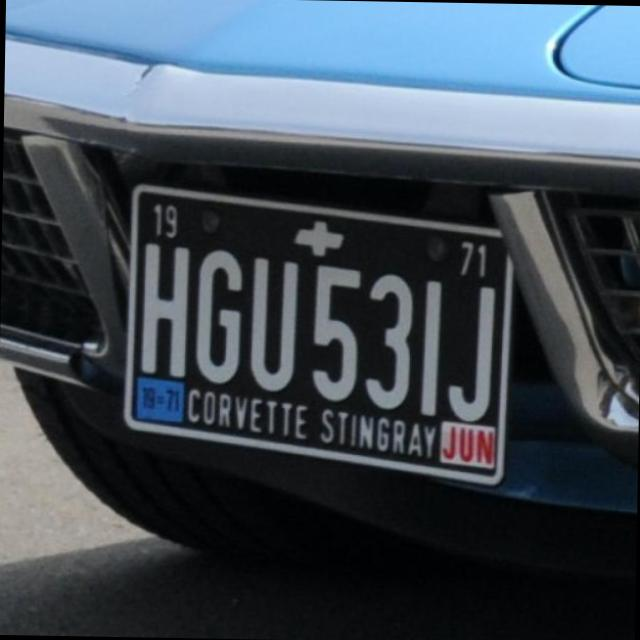LicensePlate: (123, 184, 522, 428)
